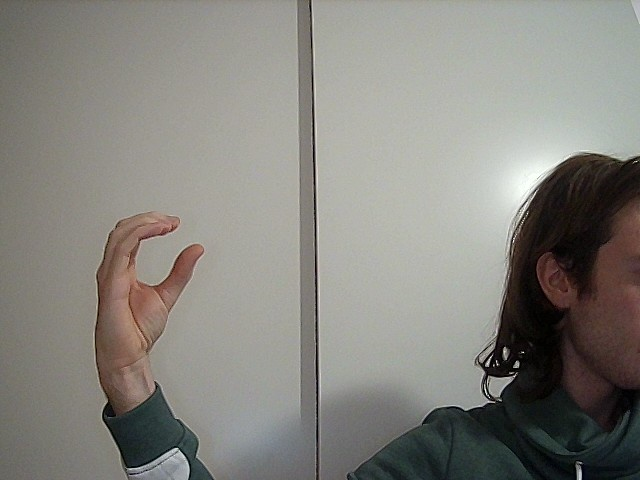c: (75, 202, 219, 377)
